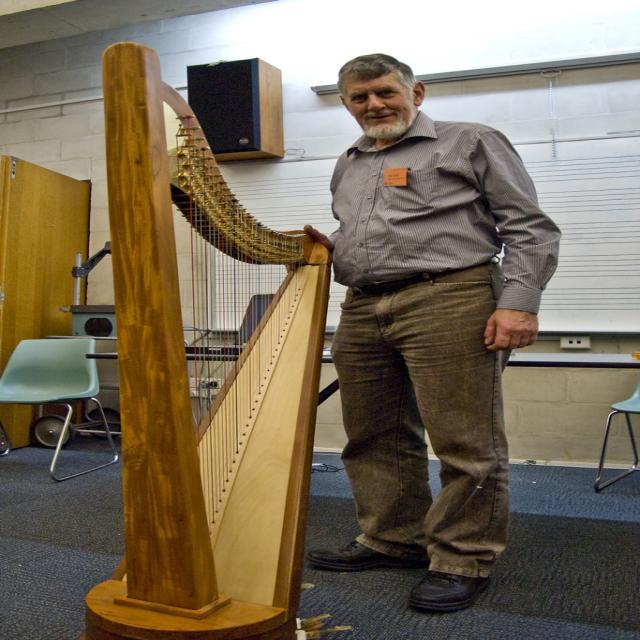harp: (68, 41, 339, 640)
